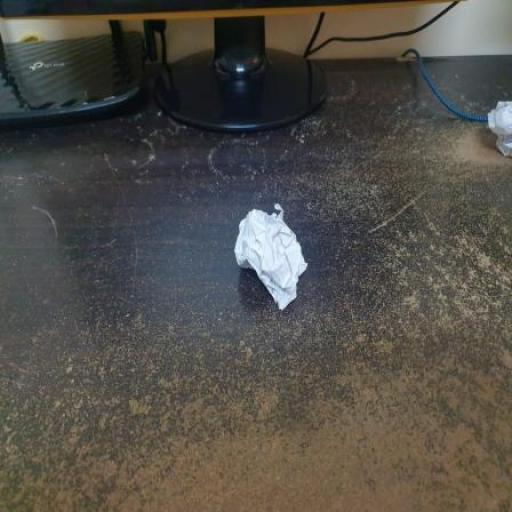paper: (183, 147, 359, 384)
